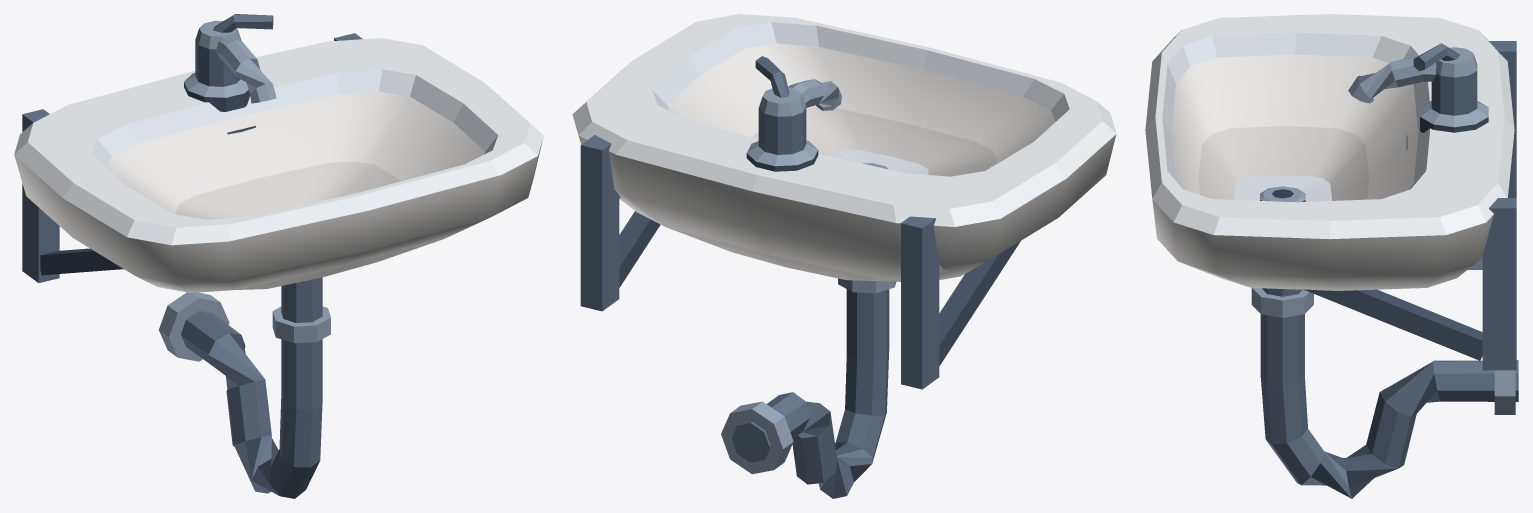
The model's file is object-sink.glb.
3 renders of one model, left to right at view 1: azimuth 30°, elevation 25°; view 2: azimuth 150°, elevation 25°; view 3: azimuth 270°, elevation 25°, orthographic. The views are drawn at different scales.
Parts seen in each view (by area): view 1: Bathroom - Wall Sink; view 2: Bathroom - Wall Sink; view 3: Bathroom - Wall Sink.
Part boxes in pixels (x1,y1,x2,y2): Bathroom - Wall Sink: (14,14,543,498); Bathroom - Wall Sink: (572,14,1116,498); Bathroom - Wall Sink: (1145,14,1518,498).
Bounding box in the file's own units: 0.514 × 0.5056 × 0.372.
1 material, 1 textured.
